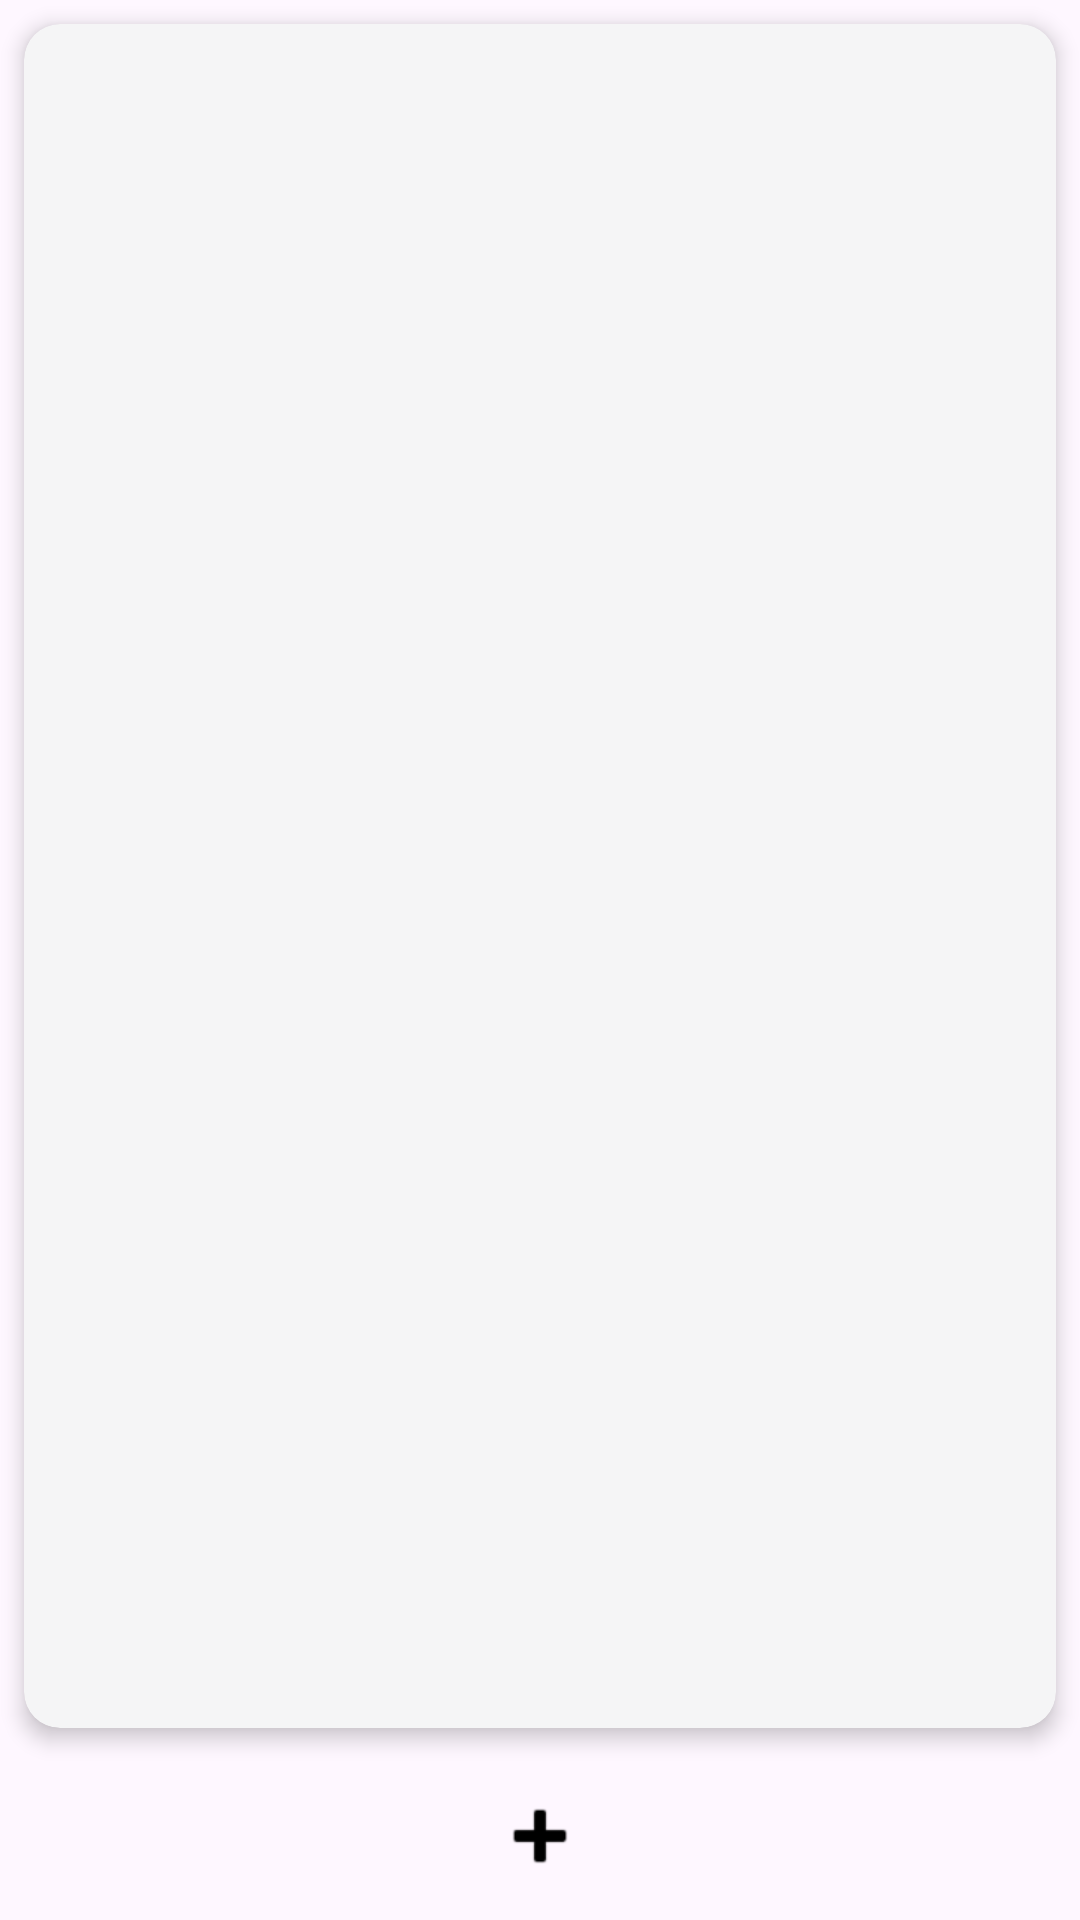

Locate icon controls on the screen. Image size 1080w x 1920h, boxes as detection(x1, y1, x2, y2).
Add Page: detection(513, 1809, 567, 1863)
